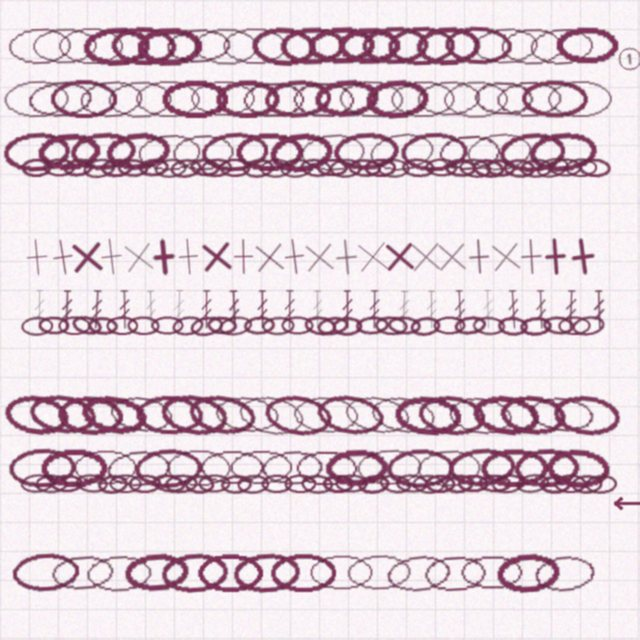chain: (235, 390, 307, 440), (158, 390, 231, 439), (186, 391, 259, 439), (341, 391, 414, 439), (262, 391, 334, 439), (314, 391, 386, 439), (78, 391, 149, 439), (367, 391, 438, 439), (366, 128, 438, 175), (27, 391, 99, 438), (106, 391, 177, 438), (470, 391, 541, 438), (551, 392, 623, 438), (2, 391, 72, 438), (416, 392, 487, 438), (445, 392, 515, 438), (383, 550, 453, 596), (464, 129, 535, 174), (527, 129, 598, 174), (267, 129, 336, 175), (526, 392, 596, 437), (104, 129, 173, 174), (212, 392, 281, 437), (498, 392, 567, 437), (298, 130, 368, 174), (103, 446, 173, 490), (393, 393, 462, 437), (2, 130, 72, 173), (160, 551, 230, 594), (232, 551, 302, 594), (498, 130, 566, 174), (48, 551, 116, 595), (531, 551, 599, 595), (25, 77, 94, 120), (77, 77, 146, 120), (69, 130, 138, 173), (200, 130, 269, 173), (332, 130, 401, 173), (447, 446, 516, 489), (11, 551, 80, 594), (471, 25, 541, 67), (313, 77, 381, 120), (123, 551, 191, 594), (263, 78, 332, 120), (135, 131, 204, 173), (291, 394, 360, 436), (84, 552, 153, 594), (364, 77, 431, 120), (495, 551, 562, 594), (82, 25, 150, 67), (164, 25, 232, 67), (250, 25, 318, 67), (527, 25, 595, 67), (435, 131, 503, 173), (56, 394, 124, 436), (134, 447, 202, 489), (361, 25, 430, 66), (337, 78, 406, 119), (494, 78, 563, 119), (400, 131, 469, 172), (8, 447, 77, 488), (36, 131, 103, 173), (170, 131, 237, 173), (259, 447, 326, 489), (415, 447, 482, 489), (545, 447, 612, 489), (421, 552, 488, 594), (6, 25, 74, 66), (110, 25, 178, 66), (307, 25, 375, 66), (387, 25, 455, 66), (444, 25, 512, 66), (2, 78, 70, 119), (415, 78, 483, 119), (135, 394, 203, 435), (355, 447, 423, 488), (513, 447, 581, 488), (415, 25, 482, 66), (345, 552, 412, 593), (31, 26, 99, 66), (192, 26, 260, 66), (279, 26, 347, 66), (442, 79, 510, 119), (521, 79, 589, 119), (386, 448, 454, 488), (471, 78, 537, 119), (499, 26, 566, 66), (106, 79, 173, 119), (221, 26, 289, 65), (134, 79, 202, 118), (189, 79, 257, 118), (389, 79, 457, 118), (546, 79, 614, 118), (235, 132, 303, 171), (165, 448, 233, 487), (480, 448, 548, 487), (136, 26, 202, 66), (240, 79, 306, 119), (290, 79, 356, 119), (324, 448, 390, 488), (57, 26, 124, 65), (50, 79, 117, 118), (161, 79, 228, 118), (40, 448, 107, 487), (72, 448, 139, 487), (198, 448, 265, 487), (228, 448, 295, 487), (308, 553, 375, 592), (337, 26, 402, 66), (215, 79, 281, 118), (293, 448, 359, 487), (197, 553, 263, 592), (270, 553, 336, 592), (458, 553, 524, 592), (555, 26, 620, 65), (535, 155, 570, 180), (70, 313, 104, 338), (82, 156, 117, 180), (189, 314, 224, 338), (218, 314, 253, 338), (316, 314, 350, 338), (378, 472, 412, 496), (571, 314, 606, 337), (151, 472, 186, 495), (515, 472, 550, 495), (171, 314, 205, 337), (303, 314, 337, 337), (453, 314, 487, 337), (62, 156, 95, 179), (169, 157, 203, 179), (299, 157, 333, 179), (458, 157, 492, 179), (471, 157, 505, 179), (154, 157, 187, 179), (242, 157, 275, 179), (409, 315, 442, 337), (357, 473, 390, 495), (401, 157, 435, 178), (355, 315, 389, 336), (374, 315, 408, 336), (387, 315, 421, 336), (20, 473, 54, 494), (164, 473, 198, 494), (97, 473, 129, 495), (100, 157, 133, 178), (200, 157, 233, 178), (578, 157, 611, 178), (243, 315, 276, 336), (542, 315, 575, 336), (75, 473, 108, 494), (395, 473, 428, 494), (491, 473, 524, 494), (472, 316, 506, 336), (138, 157, 170, 178), (189, 157, 221, 178), (206, 315, 238, 336), (443, 473, 475, 494), (329, 158, 362, 178), (348, 158, 381, 178), (377, 158, 410, 178), (520, 158, 553, 178), (262, 316, 295, 336), (519, 316, 552, 336), (35, 474, 68, 494), (220, 474, 253, 494), (412, 474, 445, 494), (117, 158, 149, 178), (260, 158, 292, 178), (280, 158, 312, 178), (444, 158, 476, 178), (503, 158, 535, 178), (21, 316, 53, 336), (87, 316, 119, 336), (497, 316, 529, 336), (237, 474, 269, 494), (301, 474, 333, 494), (539, 474, 571, 494), (571, 474, 603, 494), (585, 474, 617, 494), (425, 158, 458, 177), (549, 158, 582, 177), (58, 316, 91, 335), (127, 316, 160, 335), (151, 316, 184, 335), (281, 316, 314, 335), (433, 316, 466, 335), (558, 316, 591, 335), (50, 474, 83, 493), (109, 474, 142, 493), (128, 474, 161, 493), (198, 474, 231, 493), (335, 474, 368, 493), (478, 474, 511, 493), (485, 158, 516, 178), (332, 316, 363, 336), (184, 474, 215, 494), (43, 158, 75, 177), (219, 158, 251, 177), (316, 158, 348, 177), (364, 158, 396, 177), (565, 158, 597, 177), (38, 316, 70, 335), (106, 316, 138, 335), (261, 474, 293, 493), (284, 474, 316, 493), (322, 474, 354, 493), (457, 474, 489, 493), (554, 474, 586, 493), (21, 158, 52, 177), (425, 474, 456, 493)
noise: (616, 45, 640, 73), (611, 496, 640, 511)
single: (41, 235, 85, 279), (117, 235, 160, 279), (90, 235, 133, 278), (195, 235, 238, 278), (273, 235, 316, 278), (351, 235, 394, 278), (484, 235, 527, 278), (561, 235, 604, 278), (16, 236, 58, 278), (66, 236, 108, 278), (143, 236, 185, 278), (248, 236, 290, 278), (298, 236, 340, 278), (325, 236, 367, 278), (168, 236, 209, 277), (379, 236, 420, 277), (405, 236, 446, 277), (431, 236, 472, 277), (458, 236, 499, 277), (511, 236, 552, 277), (535, 236, 576, 277), (224, 237, 263, 276)
treble: (89, 290, 104, 329), (506, 290, 521, 329), (60, 290, 74, 329), (144, 290, 158, 329), (172, 290, 186, 329), (227, 290, 241, 329), (397, 290, 411, 329), (453, 290, 467, 329), (481, 290, 495, 329), (534, 290, 548, 329), (564, 290, 578, 329), (592, 290, 606, 329), (33, 290, 46, 329), (118, 290, 131, 329), (200, 290, 213, 329), (256, 290, 269, 329), (283, 290, 296, 329), (311, 290, 324, 329), (341, 290, 354, 329), (368, 290, 381, 329), (425, 290, 438, 329)
